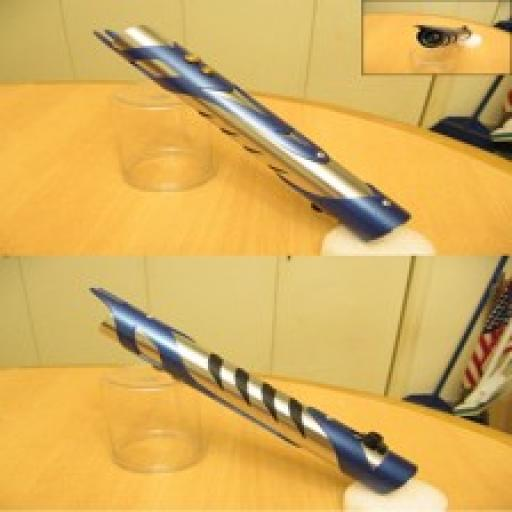lightsaber: (81, 14, 423, 240), (90, 282, 430, 497)
